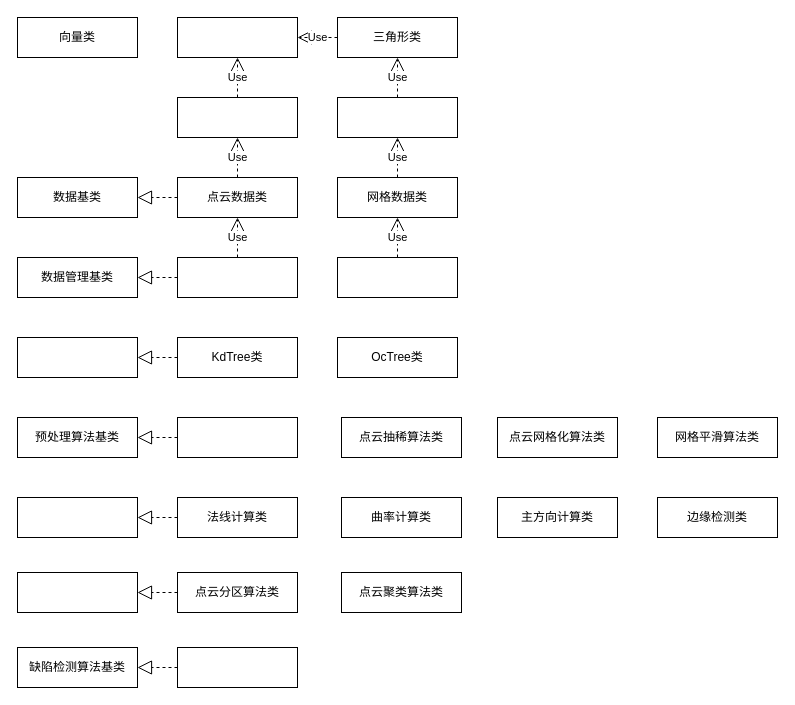
The diagram is 795 pixels wide and 705 high, and some of its shapes have lost their labels. Here are the shapes that lost their labels. From the top down, the centre of each, then its label:
the point at 237,37: 点类
the point at 237,117: 点云类
the point at 397,117: 网格类
the point at 237,277: 点云数据管理类
the point at 397,277: 网格数据管理类
the point at 77,357: 空间搜索基类
the point at 237,437: 点云滤波算法类
the point at 77,517: 特征检测算法基类
the point at 77,592: 点云分割算法基类
the point at 237,667: 缺陷检测算法类
